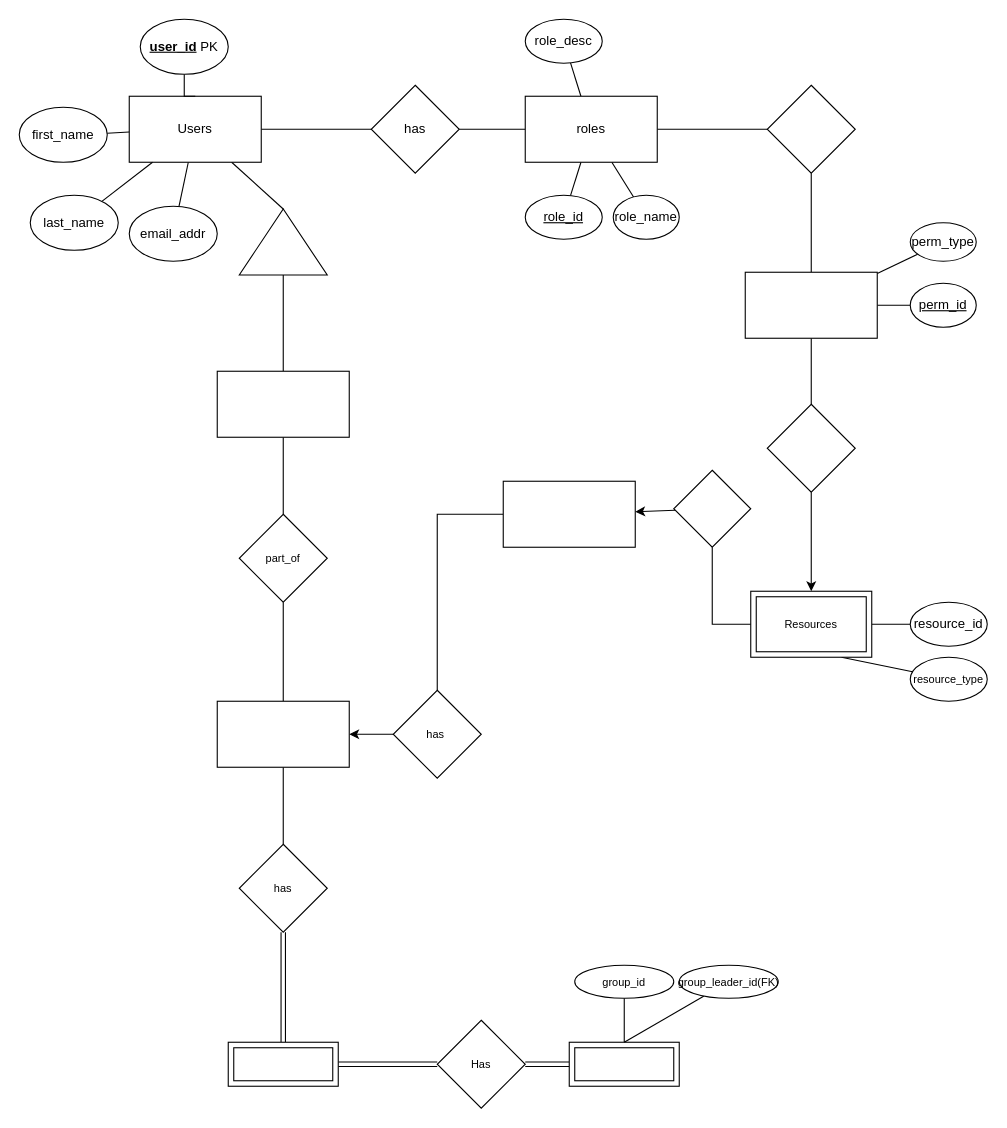
Some shapes in this 1007 by 1128 pixel diagram are drawn without their labels. Each missing label, with the box of its shape:
collections of: (766, 84, 855, 173)
consists_of: (673, 469, 751, 547)
Course: (216, 700, 349, 767)
Group_Marked_Entity: (502, 480, 635, 547)
Groups: (568, 1041, 679, 1086)
isa: (238, 208, 327, 275)
Permissions: (744, 271, 877, 338)
require: (766, 403, 855, 492)
Section: (227, 1041, 338, 1086)
Student: (216, 370, 349, 437)
